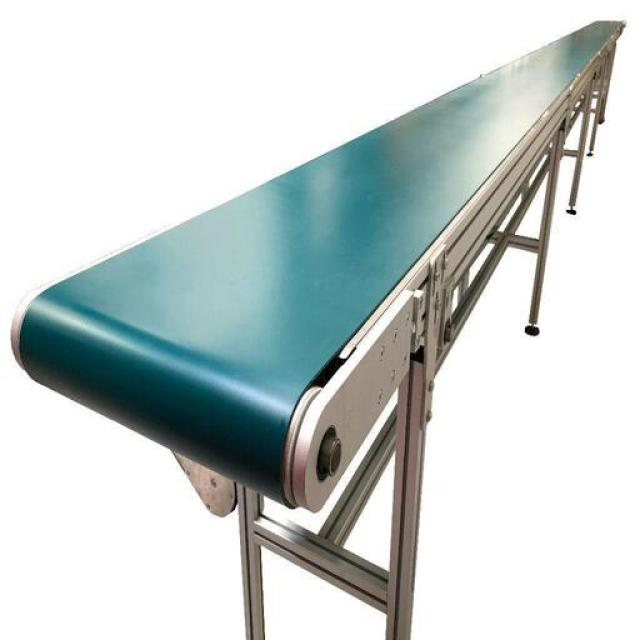conveyor: (17, 17, 621, 503)
